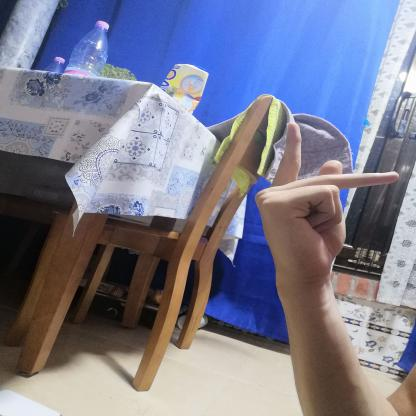DHAA: (242, 114, 410, 297)
